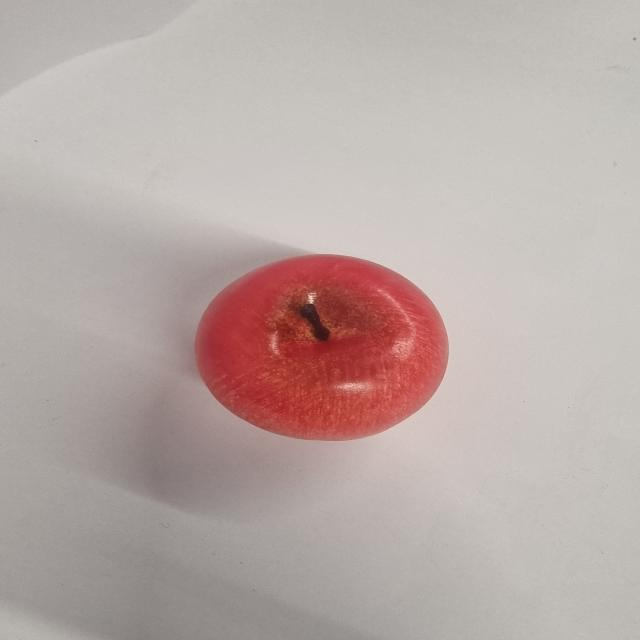apple: (197, 255, 450, 440)
